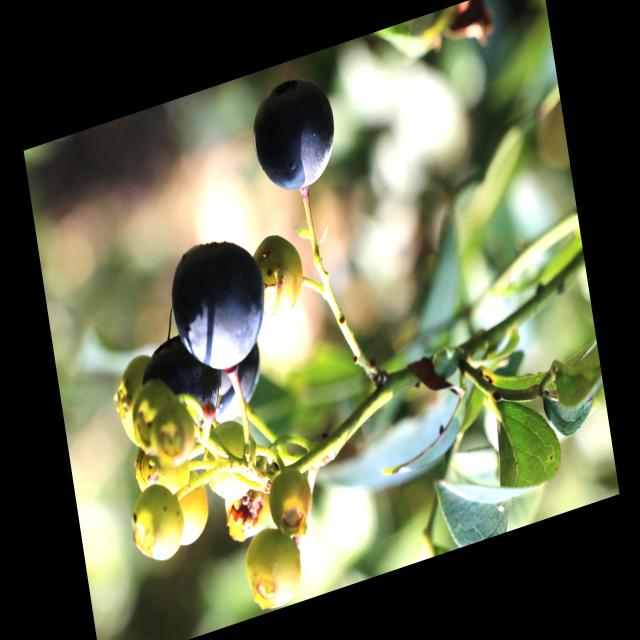blueberry: (165, 222, 275, 383), (245, 64, 346, 206), (137, 331, 226, 447)
blueberry-unripe: (238, 518, 308, 618), (123, 476, 190, 573), (198, 412, 264, 508), (249, 224, 310, 323), (112, 347, 164, 450), (262, 458, 322, 540), (165, 465, 214, 551), (146, 398, 200, 472), (133, 440, 194, 500)
